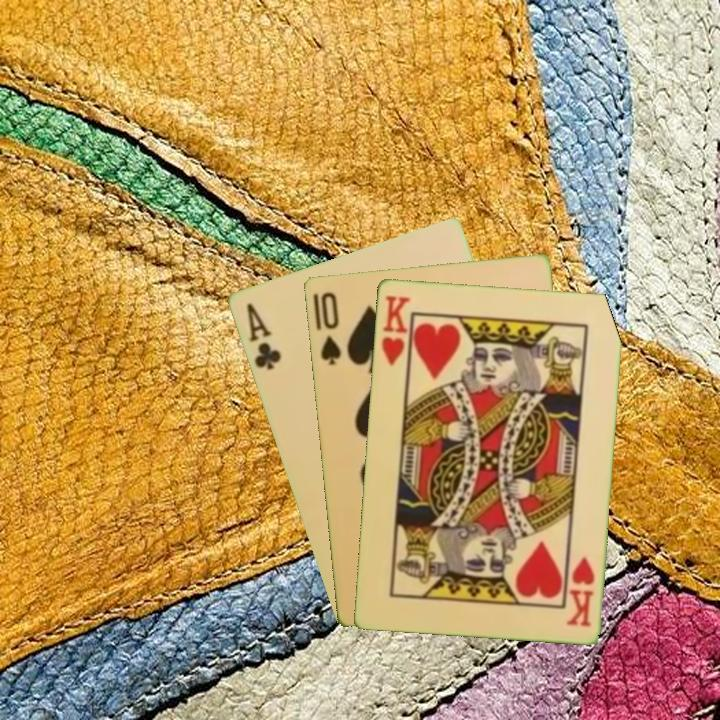10s: (316, 288, 344, 368)
Ac: (242, 299, 284, 373)
Kh: (377, 291, 413, 374), (562, 552, 597, 629)
